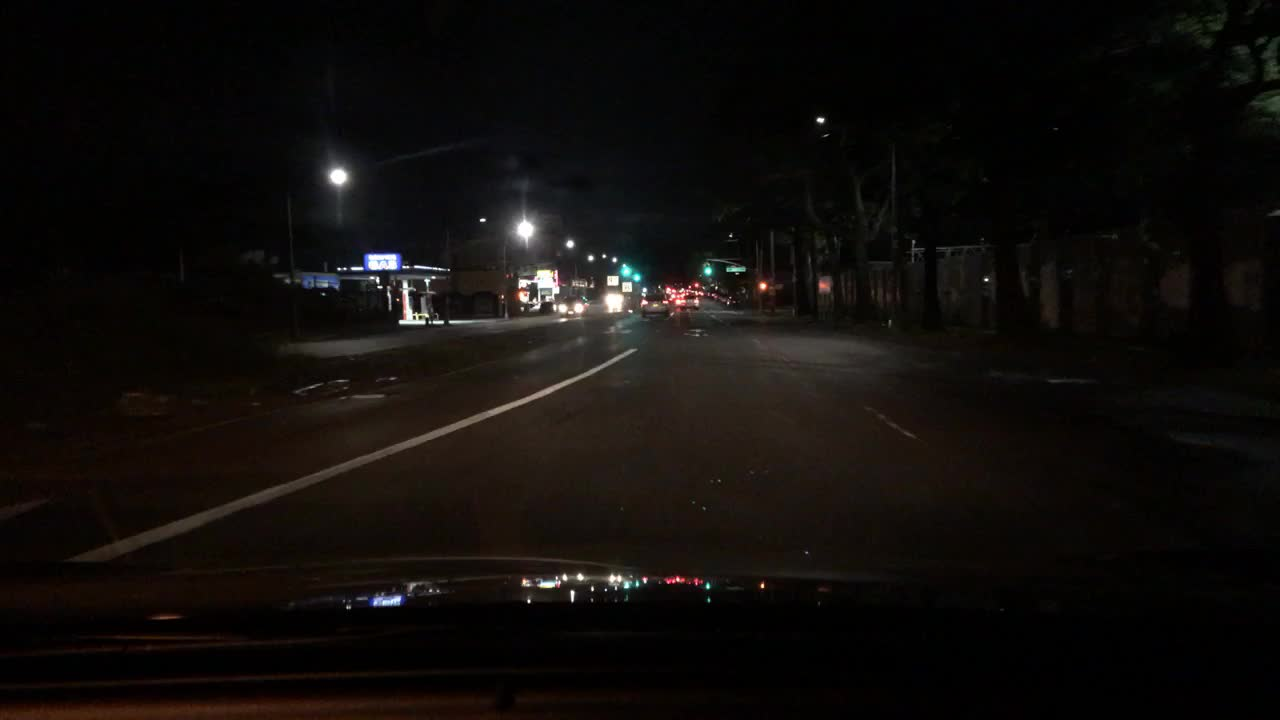car: (641, 290, 670, 318), (556, 294, 591, 316), (604, 290, 633, 308), (677, 291, 701, 310), (725, 294, 745, 309), (716, 291, 729, 303), (668, 290, 679, 303), (705, 286, 717, 296)
traffic light: (817, 275, 832, 293), (514, 290, 526, 302), (630, 272, 641, 283), (620, 265, 630, 277), (759, 279, 769, 290), (702, 263, 711, 275), (691, 280, 701, 288), (504, 272, 514, 279)
traffic sign: (605, 274, 620, 285), (726, 267, 747, 274), (606, 274, 619, 285), (621, 281, 634, 291)
